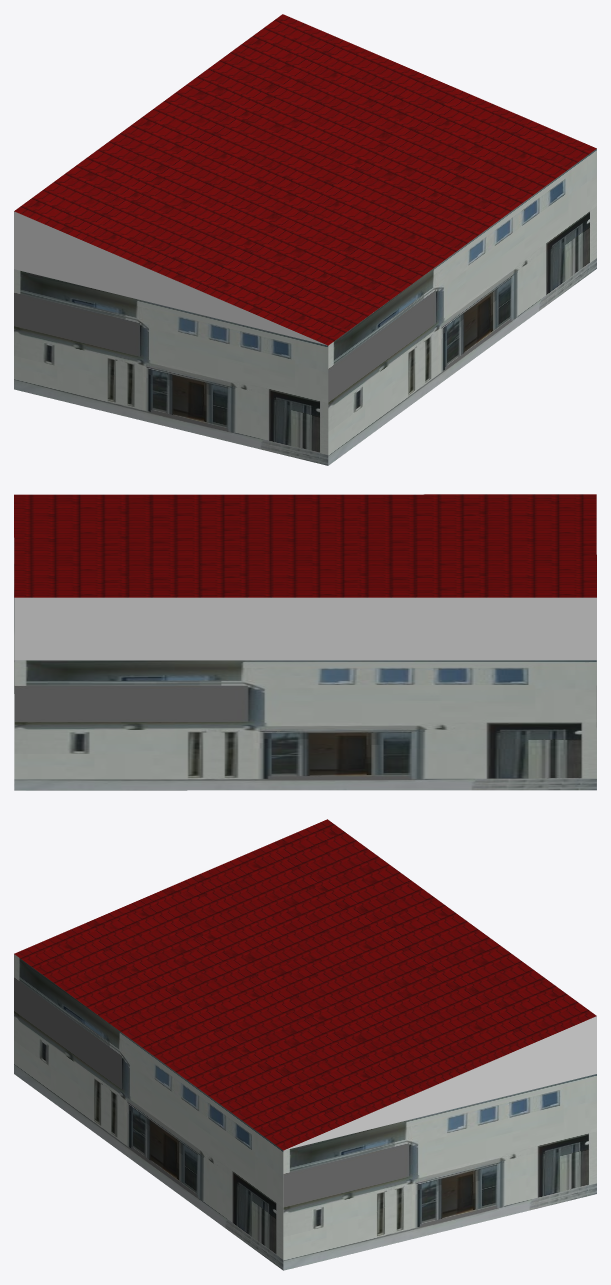
3 views of the same model, one above another, from view 1: azimuth 30°, elevation 25°; view 2: azimuth 150°, elevation 25°; view 3: azimuth 270°, elevation 25° (orthographic). The views are drawn at different scales.
Parts seen in each view (by area): view 1: CityEngineMaterial_17_m, CityEngineMaterial_11_m, CityEngineMaterial_3_m; view 2: CityEngineMaterial_11_m, CityEngineMaterial_17_m, CityEngineMaterial_3_m; view 3: CityEngineMaterial_17_m, CityEngineMaterial_11_m, CityEngineMaterial_3_m.
Part boxes in pixels (<box>): CityEngineMaterial_17_m: <box>14,14,596,345</box>; CityEngineMaterial_11_m: <box>14,149,596,465</box>; CityEngineMaterial_3_m: <box>14,211,326,345</box>; CityEngineMaterial_11_m: <box>14,494,596,790</box>; CityEngineMaterial_17_m: <box>14,494,596,597</box>; CityEngineMaterial_3_m: <box>14,538,596,660</box>; CityEngineMaterial_17_m: <box>14,819,596,1150</box>; CityEngineMaterial_11_m: <box>14,954,596,1270</box>; CityEngineMaterial_3_m: <box>285,1016,596,1149</box>.
Bounding box in the file's own units: 29.27 × 8.89 × 26.38.
